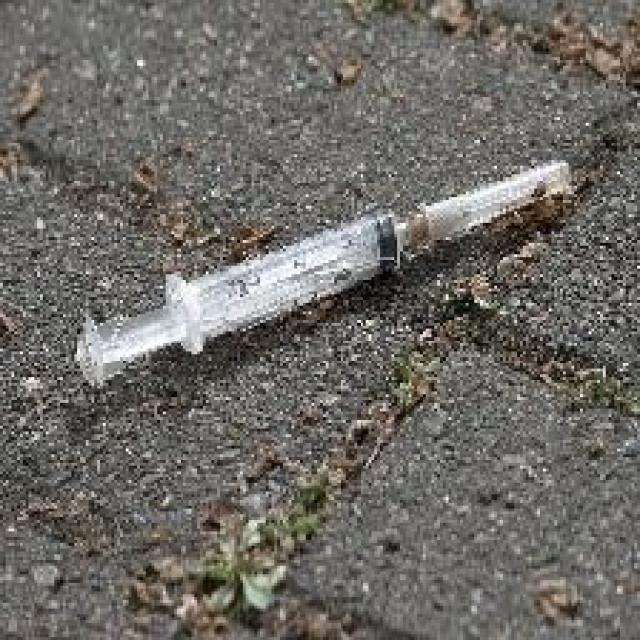syringe: (64, 140, 600, 435)
